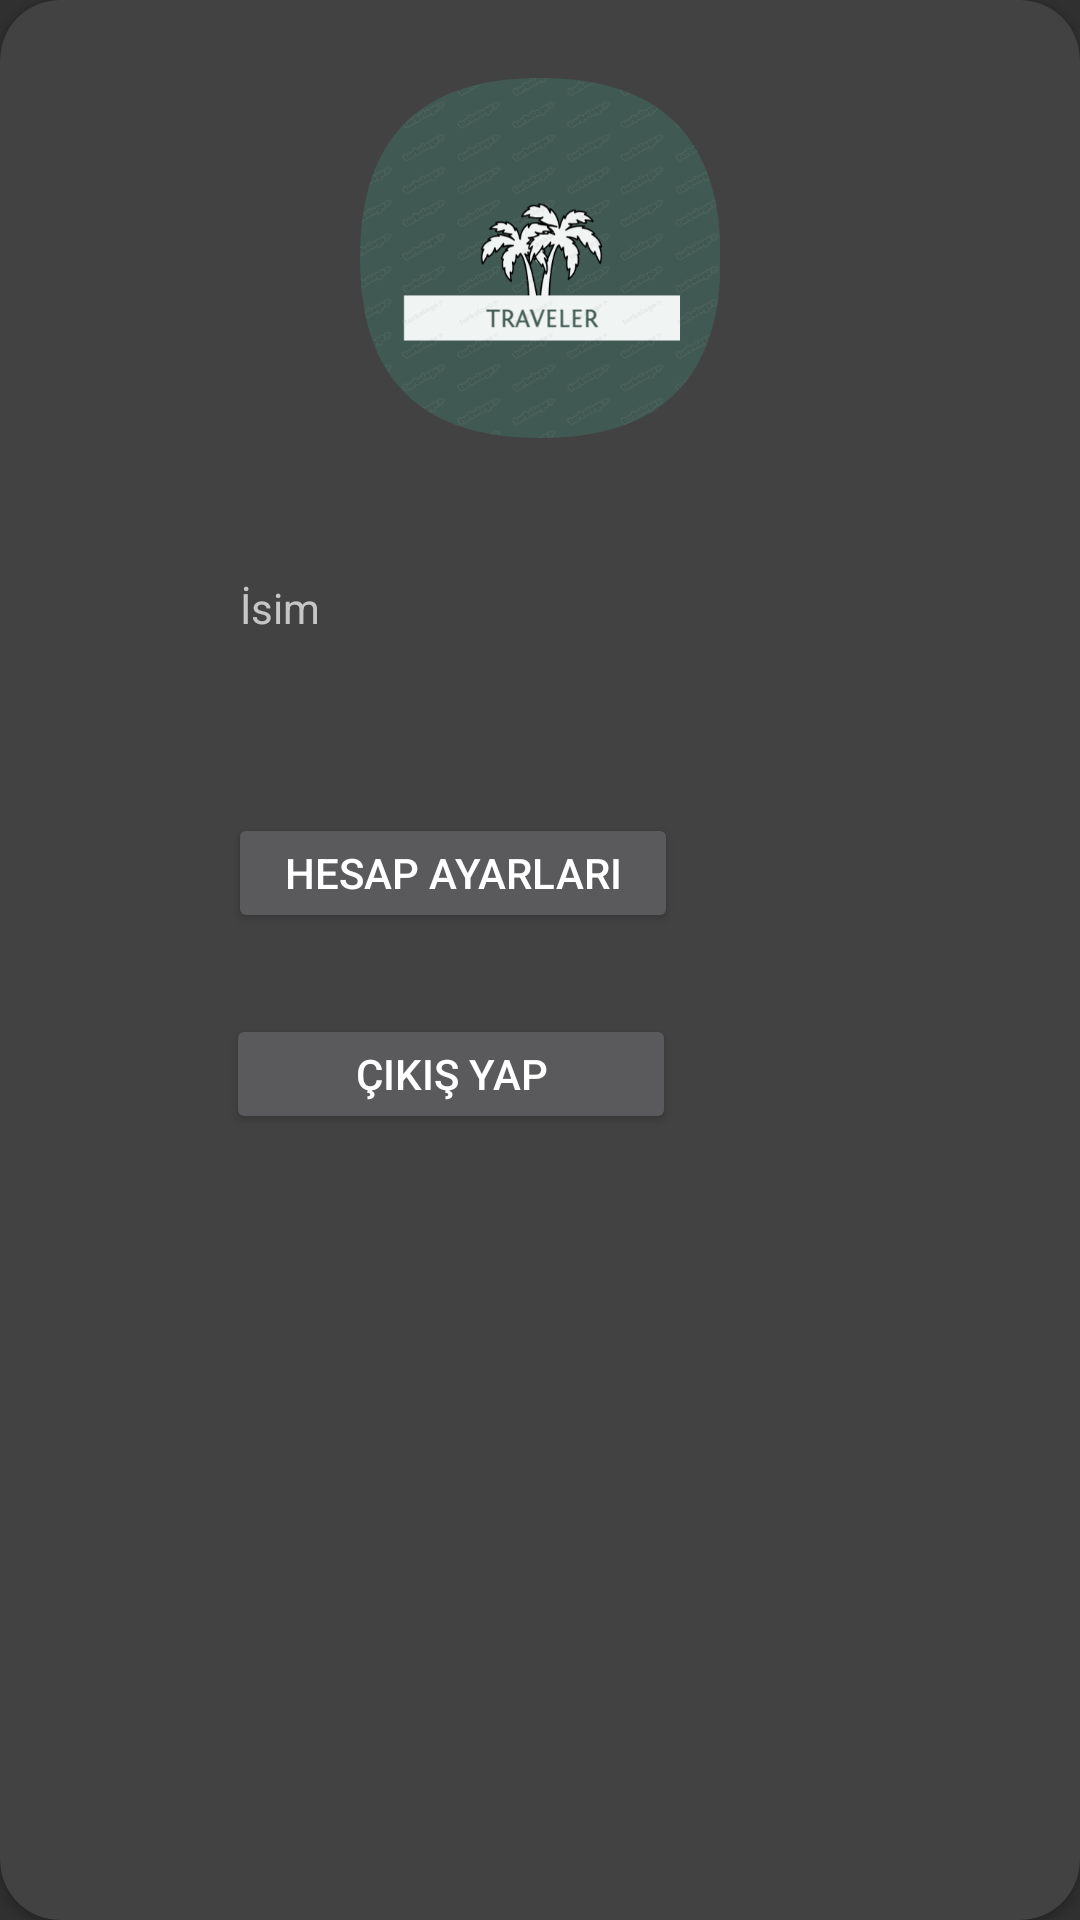

Icons on this 1080*1920 Android screen, each with its box as (x1, y1, x2, y2):
palmtreeo: (360, 78, 720, 438)
